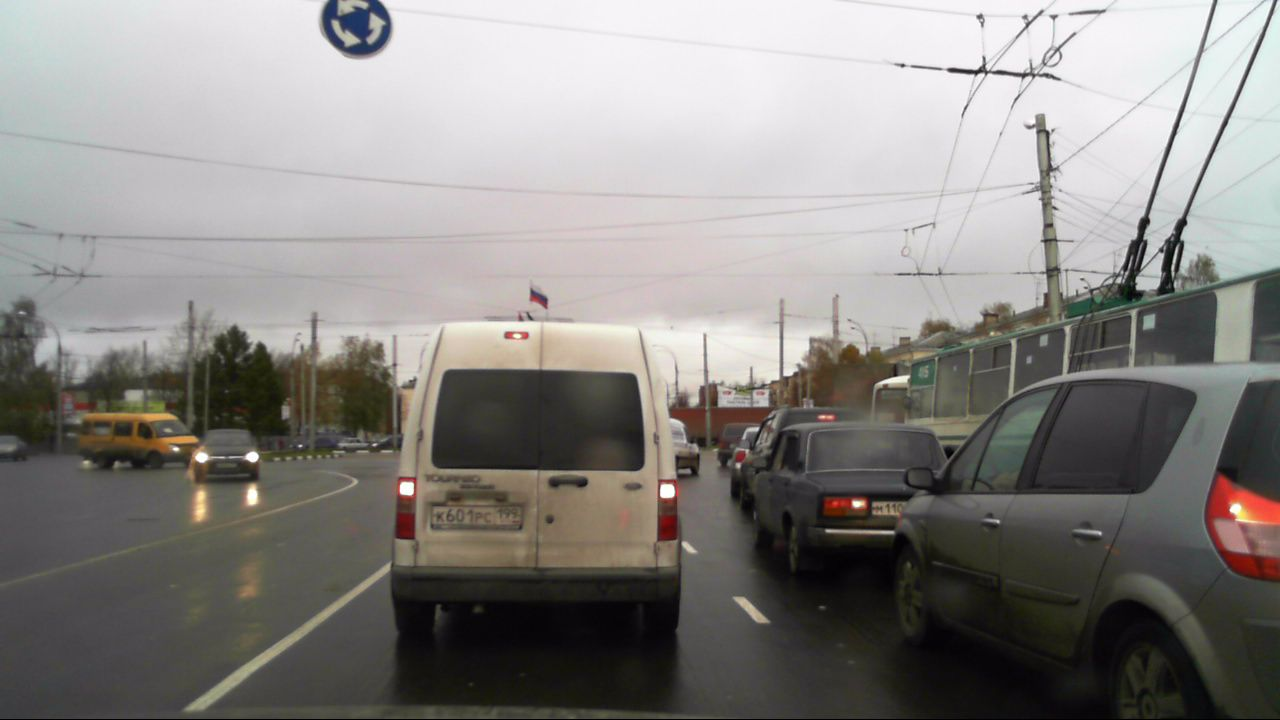Round-About: (315, 0, 391, 59)
